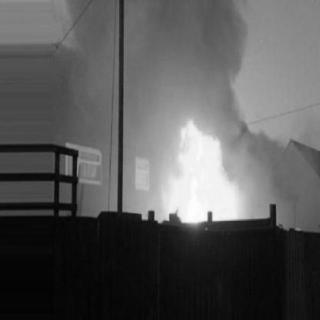Fire: (162, 128, 240, 228)
Smoke: (142, 6, 222, 98)
